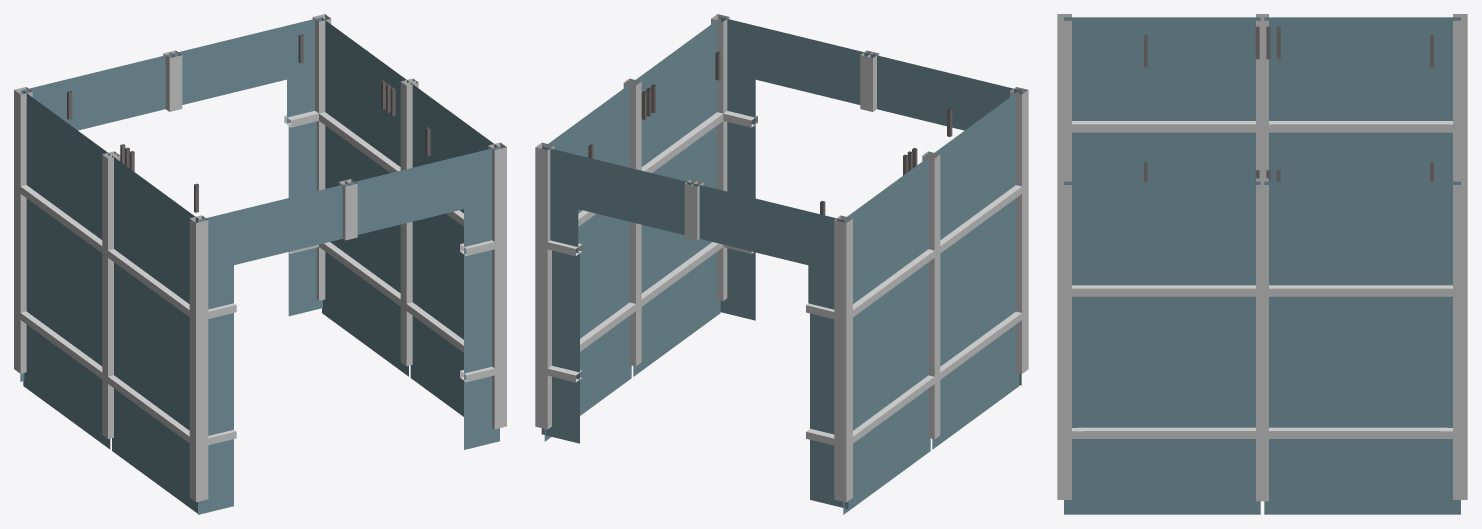
File: lift-cabin.glb
3 renders of one model, left to right at view 1: azimuth 30°, elevation 25°; view 2: azimuth 150°, elevation 25°; view 3: azimuth 270°, elevation 25°, orthographic. The views are drawn at different scales.
Parts seen in each view (by area): view 1: BackUpWithMirror.001_Cube.004 / Glass, BackUpWithMirror.001_Cube.004 / Metal, BackUpWithMirror.001_Cube.004 / BlackMetal; view 2: BackUpWithMirror.001_Cube.004 / Glass, BackUpWithMirror.001_Cube.004 / Metal, BackUpWithMirror.001_Cube.004 / BlackMetal; view 3: BackUpWithMirror.001_Cube.004 / Glass, BackUpWithMirror.001_Cube.004 / Metal, BackUpWithMirror.001_Cube.004 / BlackMetal.
Part boxes in pixels (box(x1,y1,x2,y2)): BackUpWithMirror.001_Cube.004 / Glass: box(20, 17, 499, 514); BackUpWithMirror.001_Cube.004 / Metal: box(14, 14, 506, 502); BackUpWithMirror.001_Cube.004 / BlackMetal: box(67, 34, 430, 212); BackUpWithMirror.001_Cube.004 / Glass: box(541, 17, 1021, 514); BackUpWithMirror.001_Cube.004 / Metal: box(535, 14, 1028, 502); BackUpWithMirror.001_Cube.004 / BlackMetal: box(588, 51, 952, 215); BackUpWithMirror.001_Cube.004 / Glass: box(1064, 17, 1460, 514); BackUpWithMirror.001_Cube.004 / Metal: box(1057, 14, 1467, 501); BackUpWithMirror.001_Cube.004 / BlackMetal: box(1144, 26, 1433, 181).
Size of the model in its own units: 7.3 by 6.63 by 7.4.
